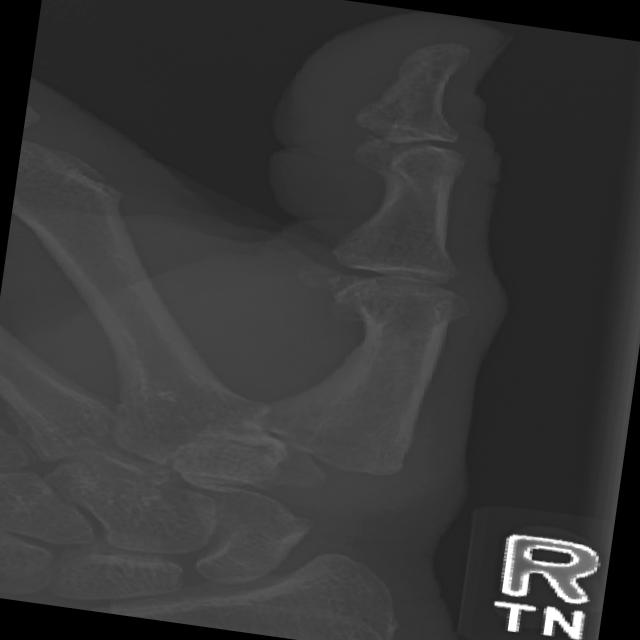fingers positive: (333, 78, 443, 177)
